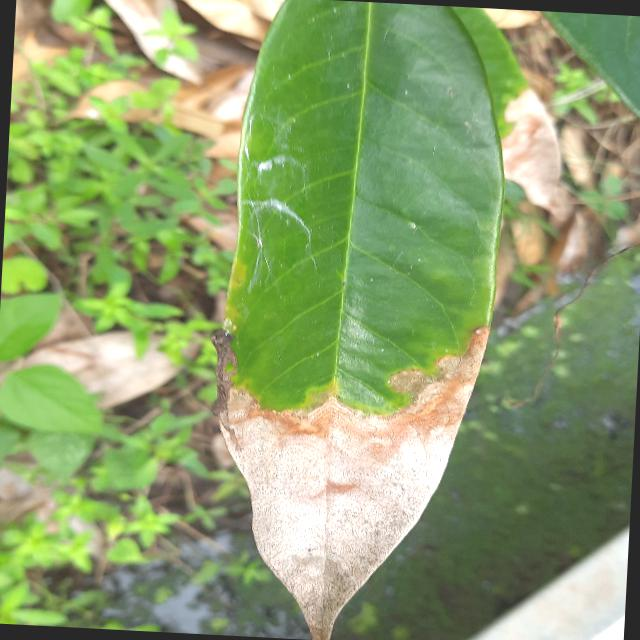Leaf Blight: (188, 0, 520, 639)
